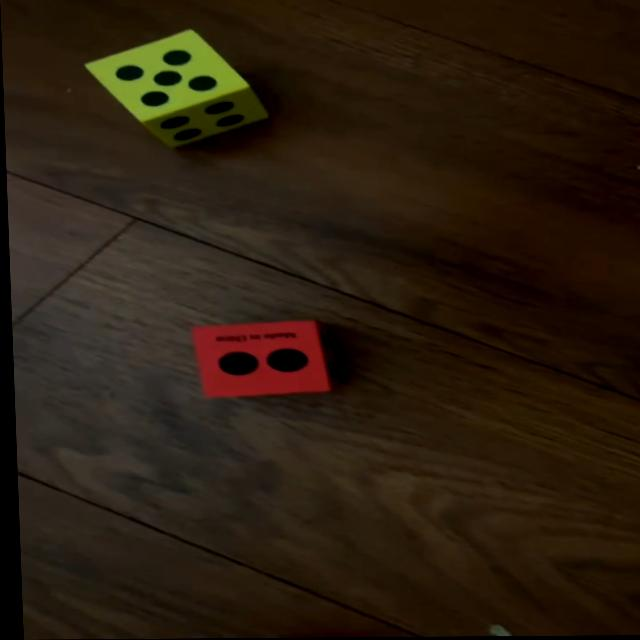red_block: (187, 322, 332, 399)
